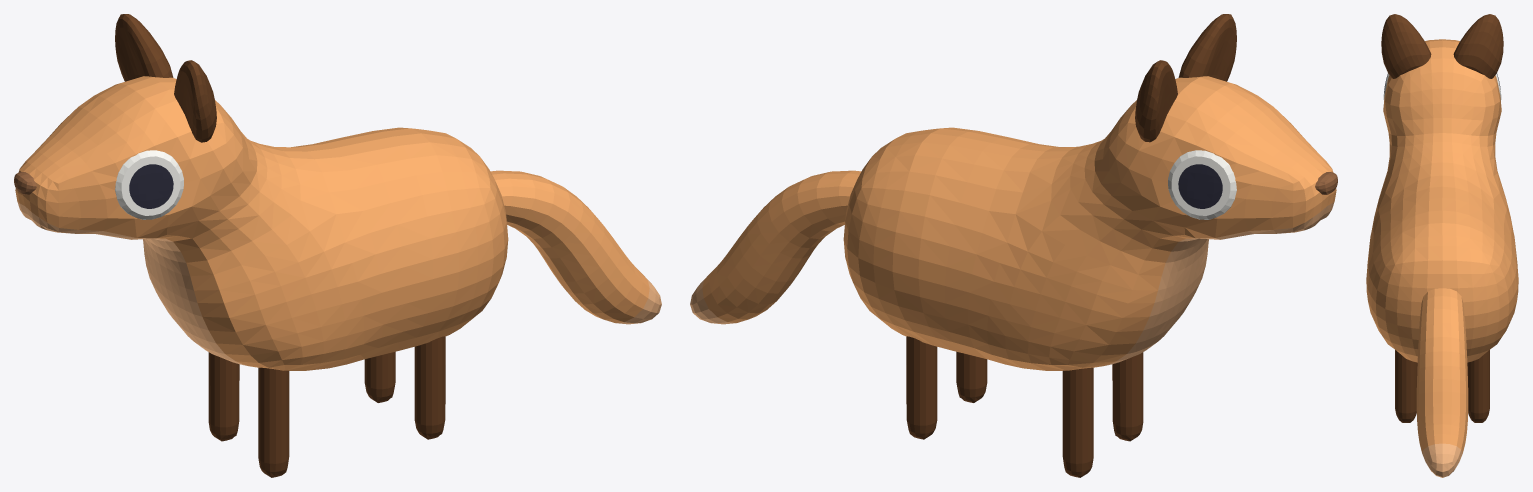
File: Fox_LOD0.fbx
3 views of the same model, side by side, from view 1: azimuth 30°, elevation 25°; view 2: azimuth 150°, elevation 25°; view 3: azimuth 270°, elevation 25° (orthographic). The views are drawn at different scales.
Visible parts, largest first — view 1: Mesh; view 2: Mesh; view 3: Mesh.
Part boxes in pixels (<box>): Mesh: <box>14,14,661,477</box>; Mesh: <box>690,14,1337,477</box>; Mesh: <box>1366,14,1518,477</box>.
Size of the model in its own units: 333 by 218 by 94.19.
1 material, 1 textured.
